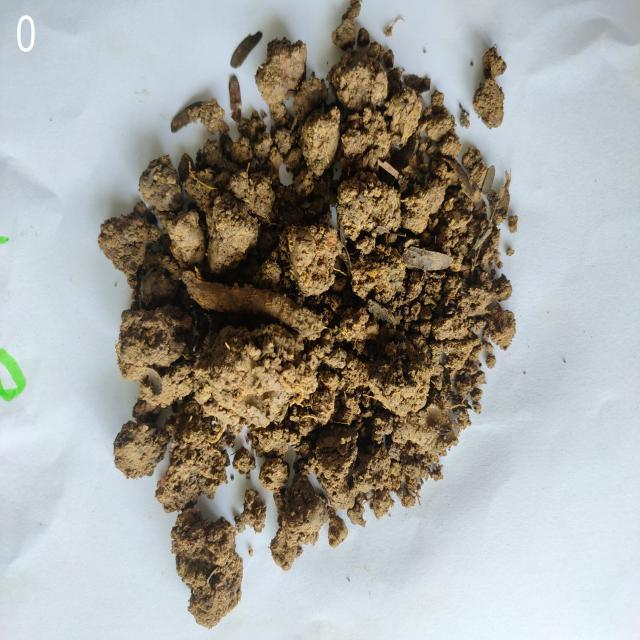soil: (227, 157, 405, 396)
